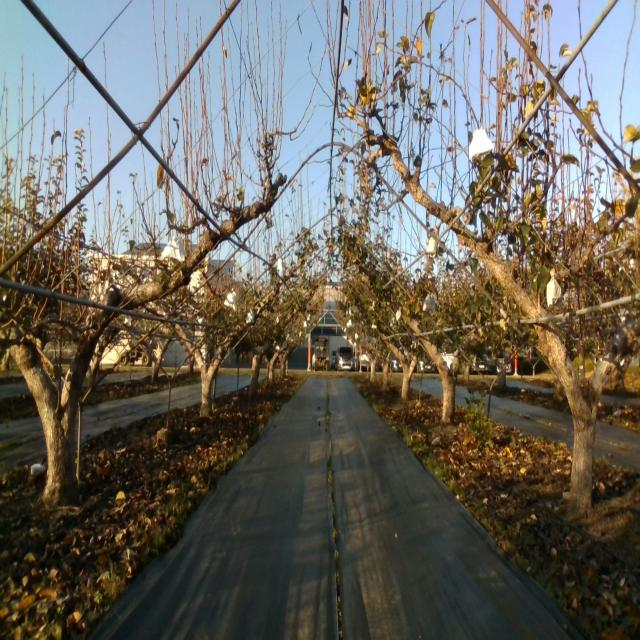pearbags: (468, 128, 494, 162), (162, 232, 186, 263), (546, 268, 562, 308), (224, 288, 237, 312), (423, 294, 435, 313)
